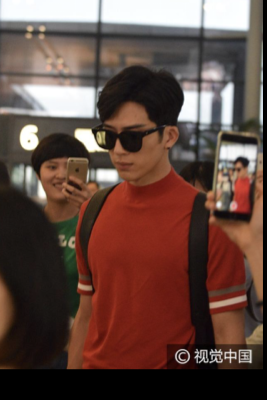without_mask: (103, 119, 164, 181), (40, 159, 75, 204)
